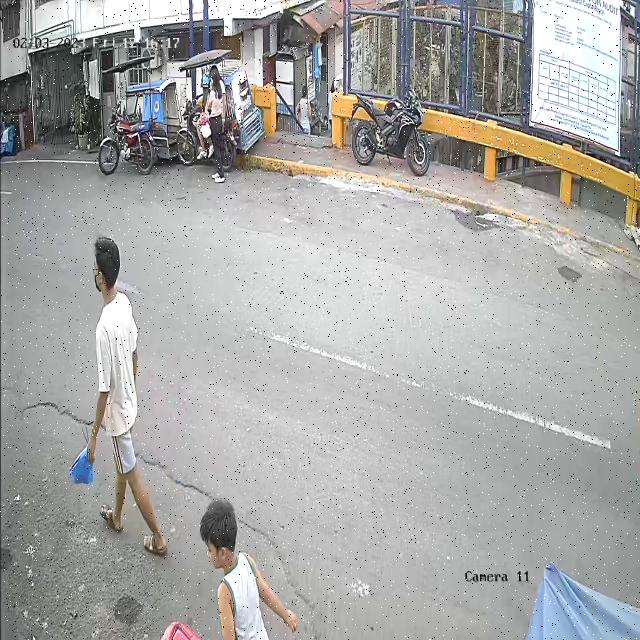human: (69, 236, 169, 558)
trash: (68, 442, 101, 495)
